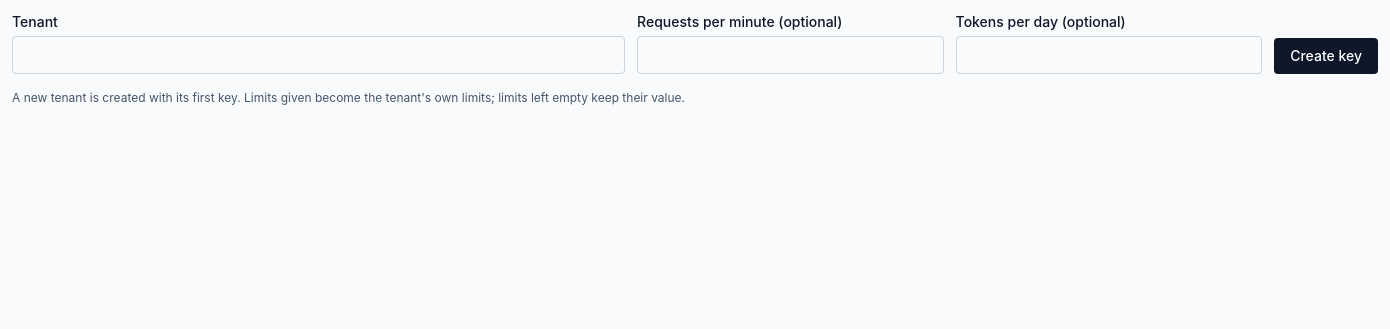
Test case: CreateKeyForm › shows the new key once, with a warning and a copy button
Type "acme" into the field labelled "Tenant" at (319, 55), box [12,36,625,74]
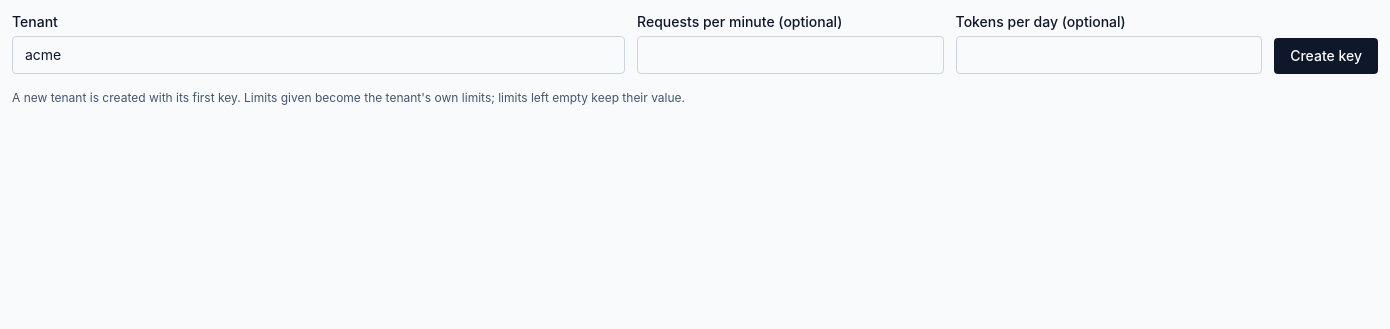
Click the button "Create key" at (1326, 56), box [1274,38,1378,74]
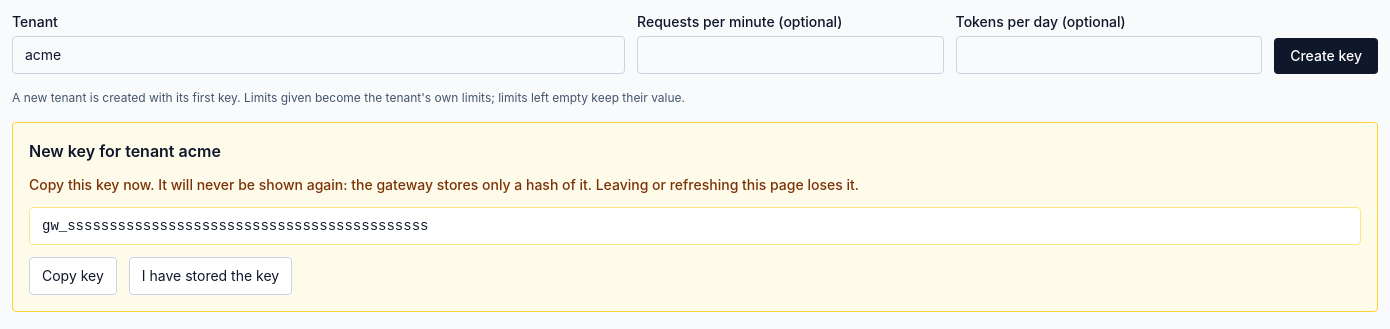
Result: the text "never be shown again" is shown at [29,176,859,193]
Result: the button "Copy key" is enabled at [29,257,117,295]
